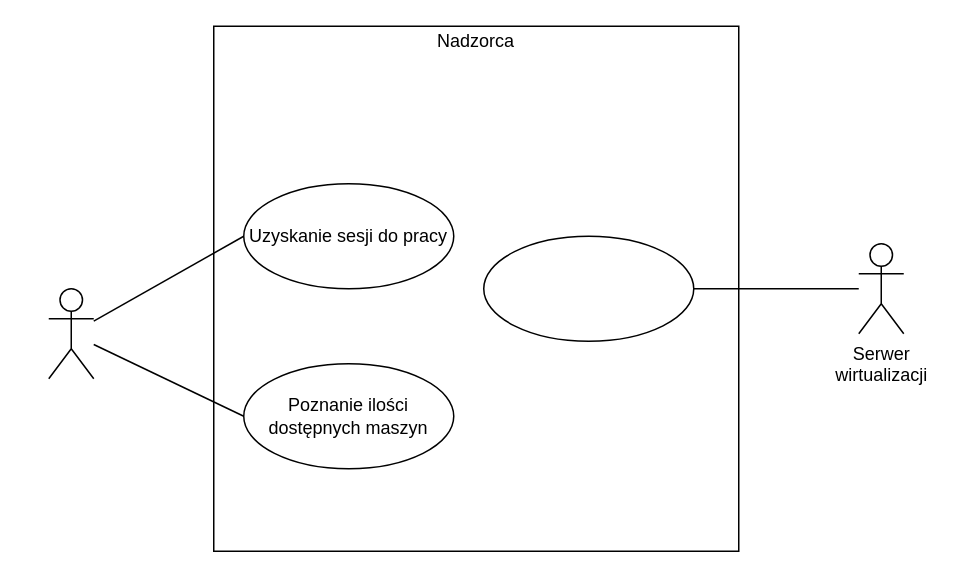
This 953x578 diagram has some shape labels left out. The centre of each missing label's shape, as x and y in pixels:
"Użytkownik" goes at point (70, 333).
"Zgłoszenie dostępnych zasobów" goes at point (588, 288).
